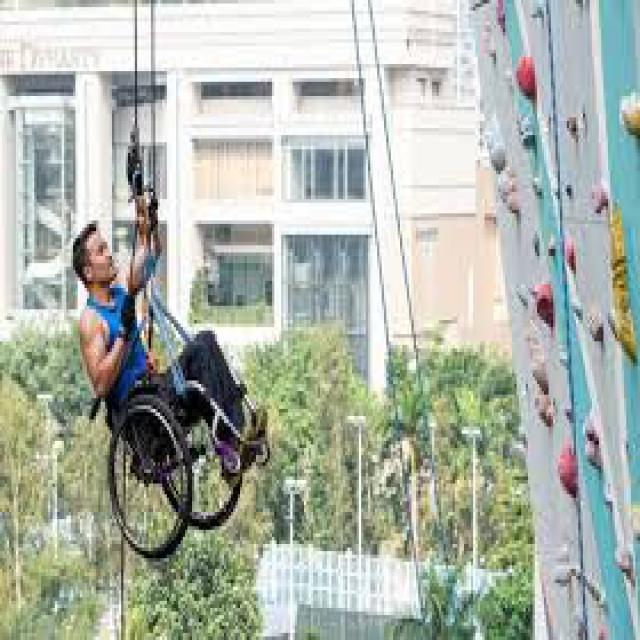wheelchairs: (75, 327, 258, 555)
